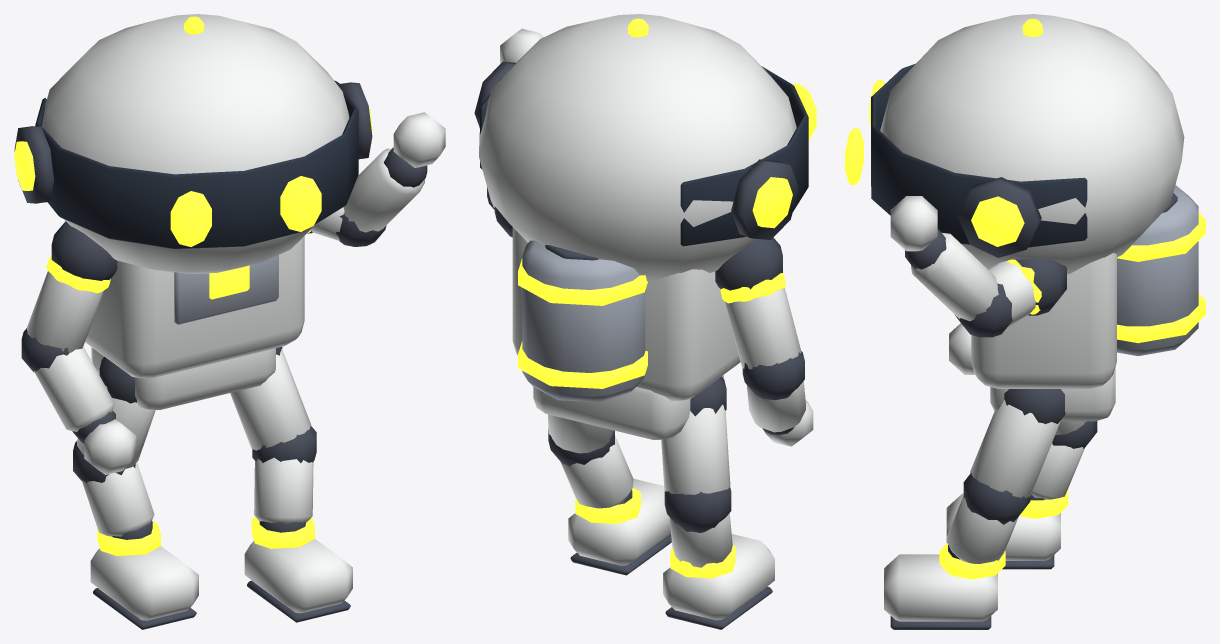
Rendered from Bot.fbx.
The picture shows the model from 3 angles, left to right: view 1: azimuth 30°, elevation 25°; view 2: azimuth 150°, elevation 25°; view 3: azimuth 270°, elevation 25°; orthographic projection. The views are drawn at different scales.
Visible parts, largest first — view 1: Head_Helmet, Head_WrapVisor, Torso_Core, Leg_R_FootShell, Leg_L_FootShell, Pelvis_Core, Leg_R_ThighShell, Arm_L_ForearmShell, Arm_L_UpperShell, Torso_ChestInset, Leg_R_ShinShell, Leg_L_ShinShell (+22 smaller); view 2: Head_Helmet, Backpack_Cylinder, Torso_Core, Head_WrapVisor, Leg_L_FootShell, Pelvis_Core, Leg_L_ThighShell, Leg_R_FootShell, Arm_L_UpperShell, Leg_R_ShinShell, Head_L_SideDiscOuter, Arm_L_ShoulderJoint (+19 smaller); view 3: Head_Helmet, Torso_Core, Head_WrapVisor, Backpack_Cylinder, Leg_R_FootShell, Leg_R_ThighShell, Arm_R_ForearmShell, Head_R_SideDiscOuter, Leg_R_ShinShell, Leg_L_FootShell, Arm_R_MittenHand, Pelvis_Core (+16 smaller).
Part boxes in pixels (box(x1,y1,x2,y2)): Head_Helmet: box(42, 14, 349, 273); Head_WrapVisor: box(35, 80, 358, 248); Torso_Core: box(85, 236, 304, 378); Leg_R_FootShell: box(244, 539, 352, 613); Leg_L_FootShell: box(90, 546, 198, 620); Pelvis_Core: box(91, 347, 275, 410); Leg_R_ThighShell: box(230, 349, 310, 450); Arm_L_ForearmShell: box(34, 347, 114, 431); Arm_L_UpperShell: box(26, 271, 103, 352); Torso_ChestInset: box(174, 255, 278, 324); Leg_R_ShinShell: box(254, 457, 313, 523); Leg_L_ShinShell: box(81, 462, 154, 536); Head_Helmet: box(479, 14, 796, 281); Backpack_Cylinder: box(522, 240, 645, 402); Torso_Core: box(512, 227, 740, 400); Head_WrapVisor: box(480, 66, 808, 246); Leg_L_FootShell: box(663, 534, 774, 620); Pelvis_Core: box(533, 375, 723, 439); Leg_L_ThighShell: box(661, 405, 730, 494); Leg_R_FootShell: box(568, 479, 670, 565); Arm_L_UpperShell: box(725, 287, 801, 369); Leg_R_ShinShell: box(560, 435, 633, 508); Head_L_SideDiscOuter: box(731, 159, 798, 239); Arm_L_ShoulderJoint: box(715, 237, 782, 290); Head_Helmet: box(880, 14, 1184, 274); Torso_Core: box(971, 253, 1116, 388); Head_WrapVisor: box(871, 63, 1087, 247); Backpack_Cylinder: box(1117, 185, 1198, 356); Leg_R_FootShell: box(884, 554, 997, 621); Leg_R_ThighShell: box(970, 399, 1060, 498); Arm_R_ForearmShell: box(910, 232, 998, 321); Head_R_SideDiscOuter: box(958, 177, 1041, 257); Leg_R_ShinShell: box(947, 496, 1018, 563); Leg_L_FootShell: box(946, 493, 1060, 560); Arm_R_MittenHand: box(890, 196, 937, 251); Pelvis_Core: box(990, 367, 1115, 421).
Size of the model in its own units: 0.9135 by 1.4 by 0.805.
